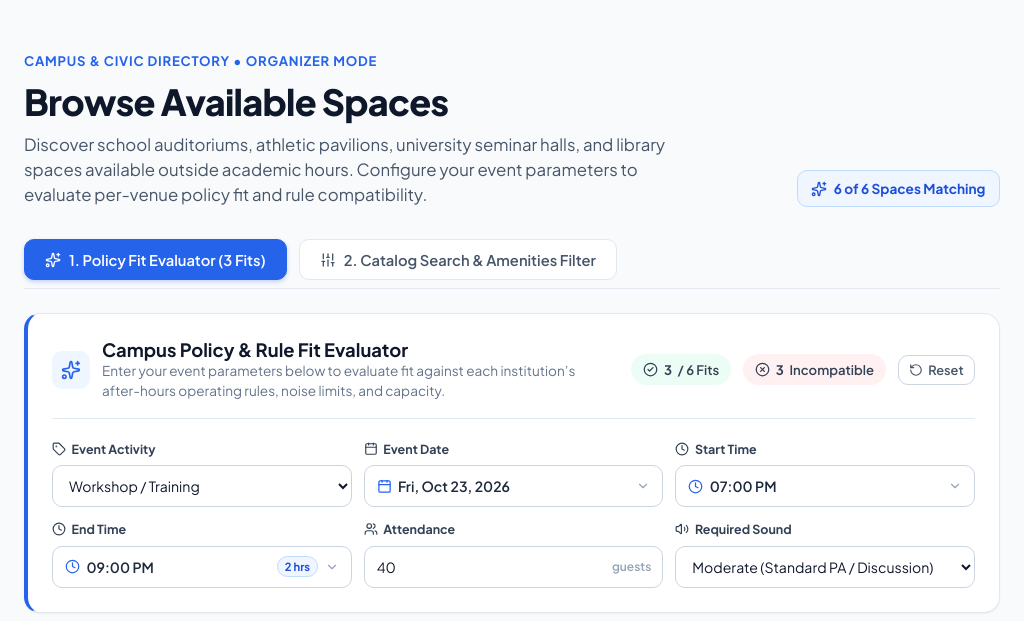
Test: VenuesPage Integration › filters results when switching to Catalog Search tab and filtering by category
// Switch to Catalog Search & Amenities tab
Step 1. Click the tab "2. Catalog Search & Amenities Filter" → (458, 260), box 299,239 -> 617,280
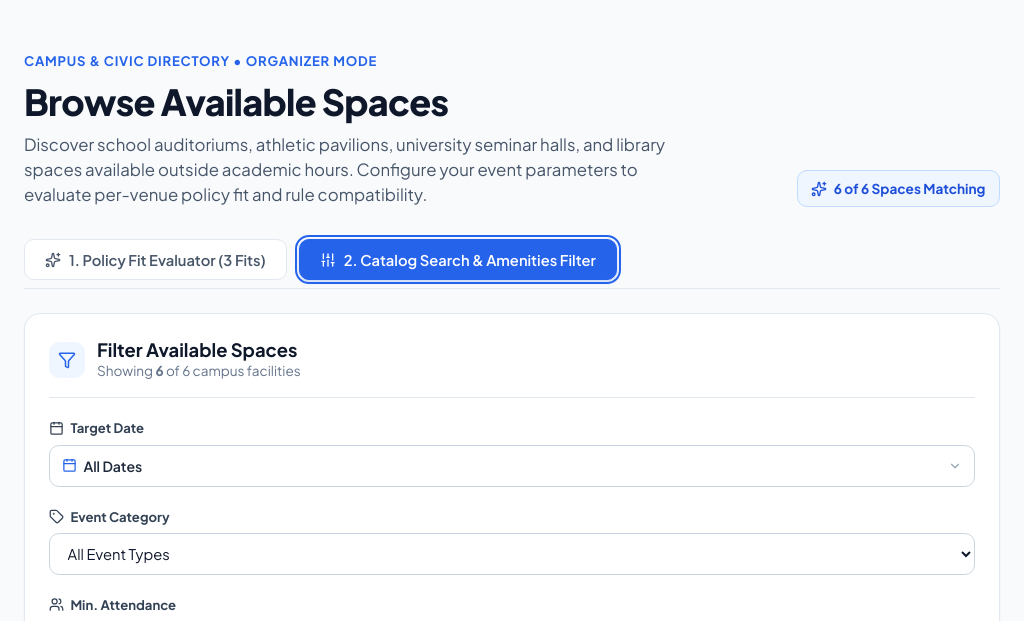
Step 2. Select "Sports / Athletics" in the dropdown named "filter by event category" → (512, 554), box 49,533 -> 975,575
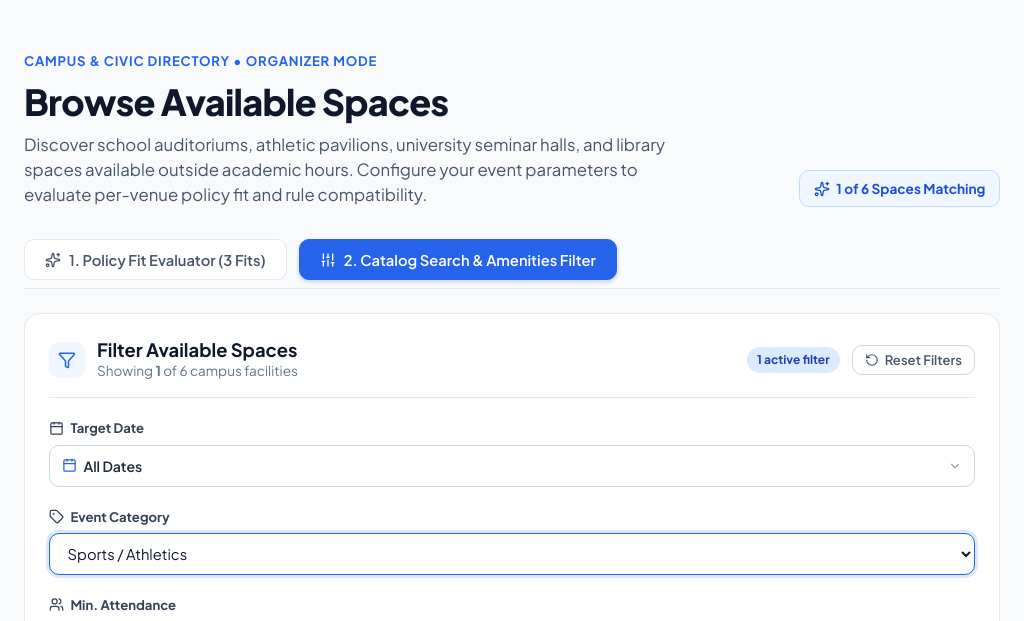
Now the element labelled "Showing 1 of 6 campus facilities" is shown, box 97,361 -> 298,381
